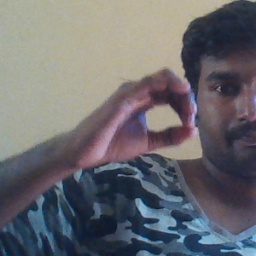O: (71, 67, 200, 171)
